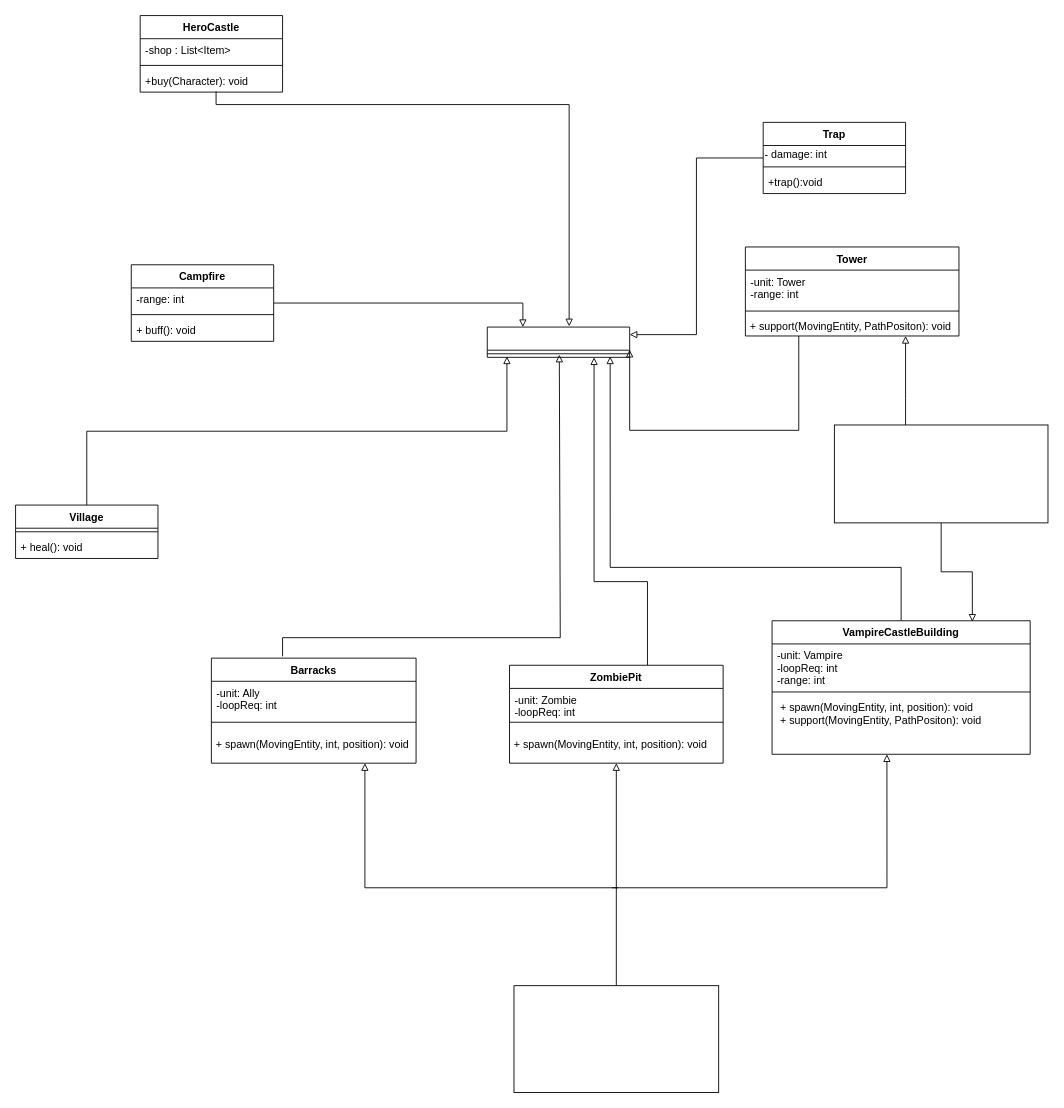
The diagram is 1064 pixels wide and 1108 high, and some of its shapes have lost their labels. Each missing label, with the centre of its shape:
"<<Interface>> Spawn + spawn(MovingEntity, int, position): void" belongs at (x=616, y=1038).
"<<Interface>> Support + support(MovingEntity, PathPositon): void" belongs at (x=940, y=473).
"Building" belongs at (x=558, y=341).
